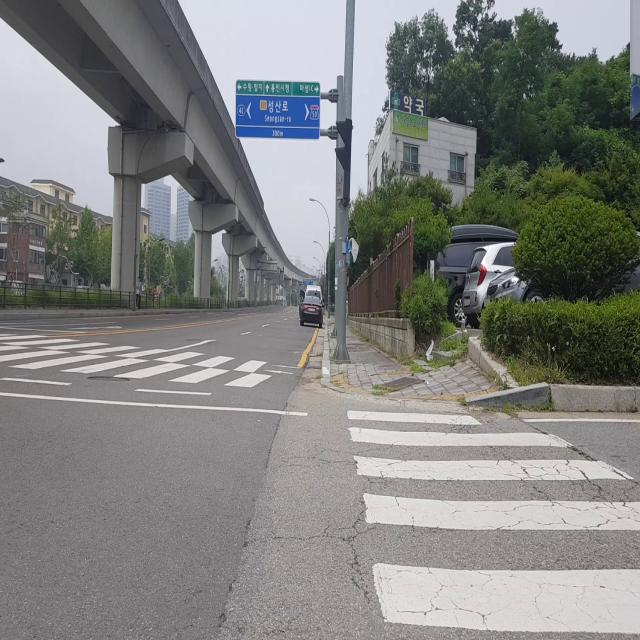횡단보도: (344, 407, 640, 636), (0, 330, 272, 391)
